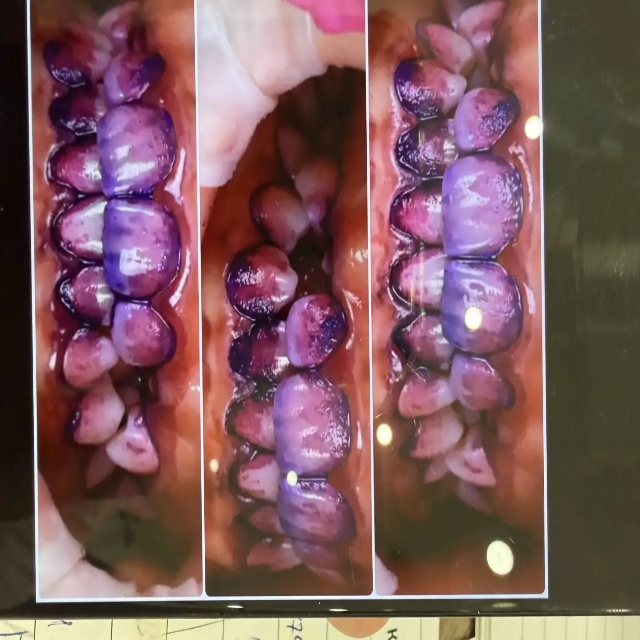clean_tooth: (0, 618, 353, 639), (472, 616, 639, 639), (365, 617, 439, 639)
plaque: (45, 26, 182, 366), (391, 62, 522, 402), (234, 295, 348, 552), (227, 269, 277, 313), (113, 414, 151, 462)
